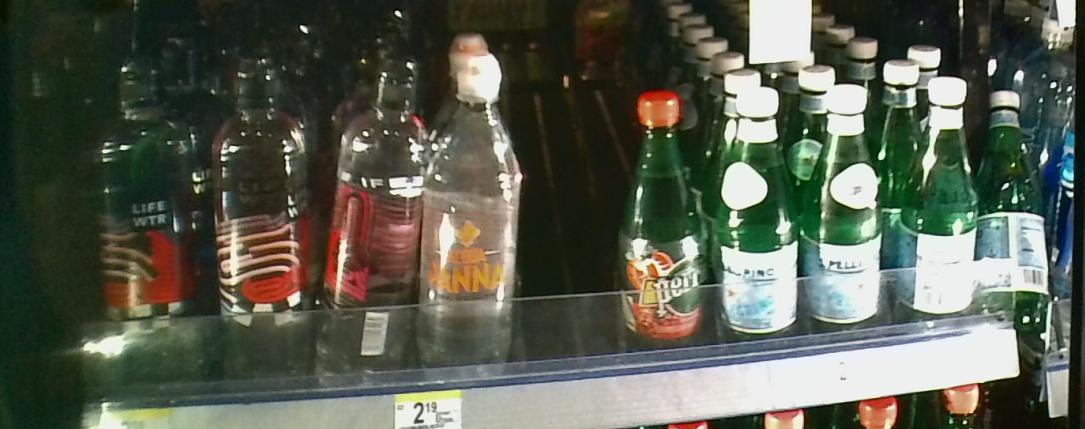bottle: (91, 48, 207, 402), (212, 54, 318, 398), (325, 54, 427, 391), (432, 60, 521, 369), (625, 90, 704, 380), (715, 85, 799, 346), (901, 72, 981, 343), (806, 74, 881, 336)
